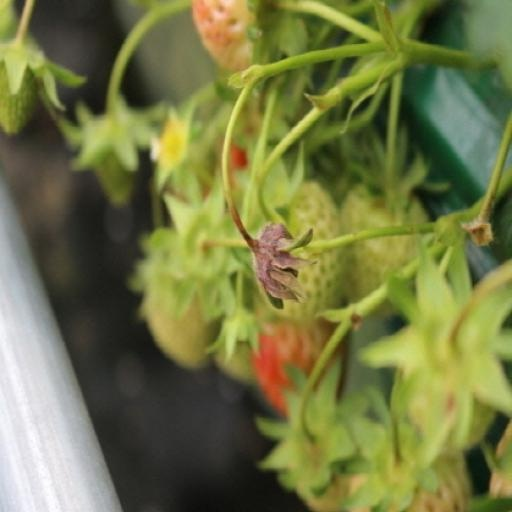Gray Mold: (194, 222, 273, 310)
